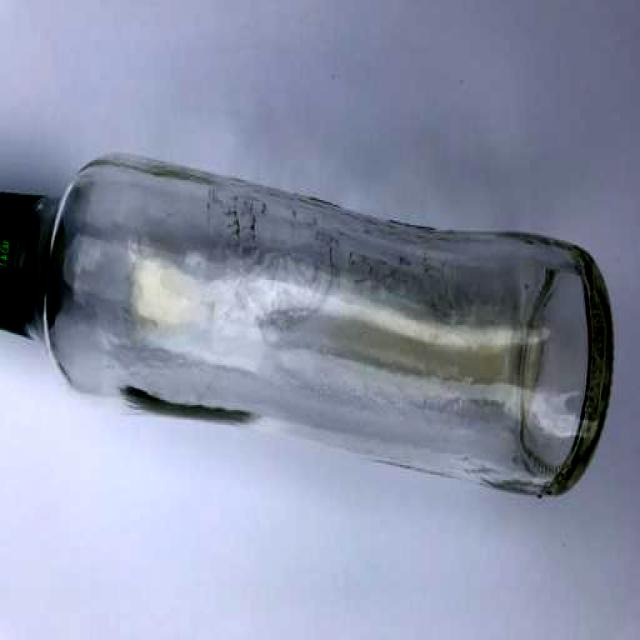Glass: (0, 149, 619, 510)
